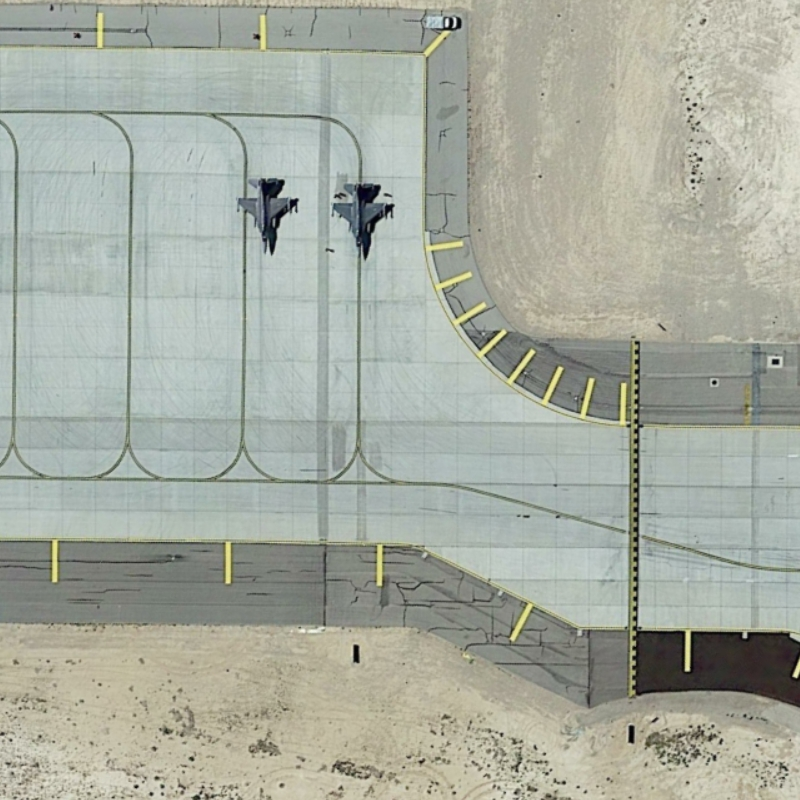A5: (329, 172, 398, 266), (230, 170, 301, 261)
